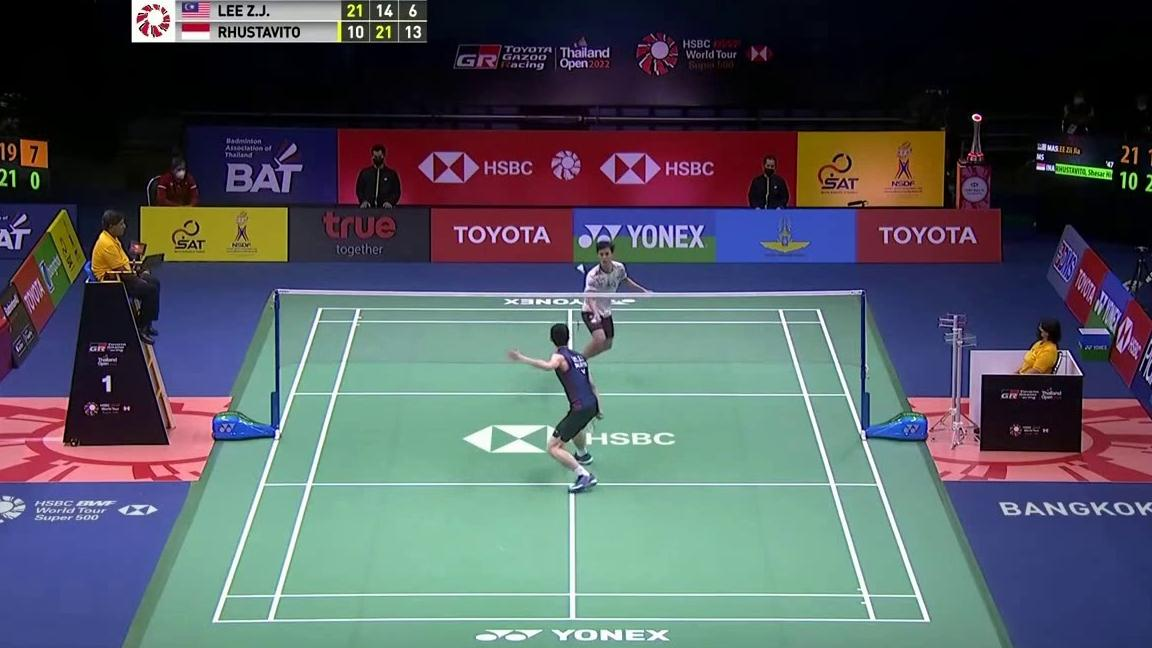racket: (581, 412, 605, 435), (566, 319, 599, 335)
shuttle: (575, 263, 586, 275)
